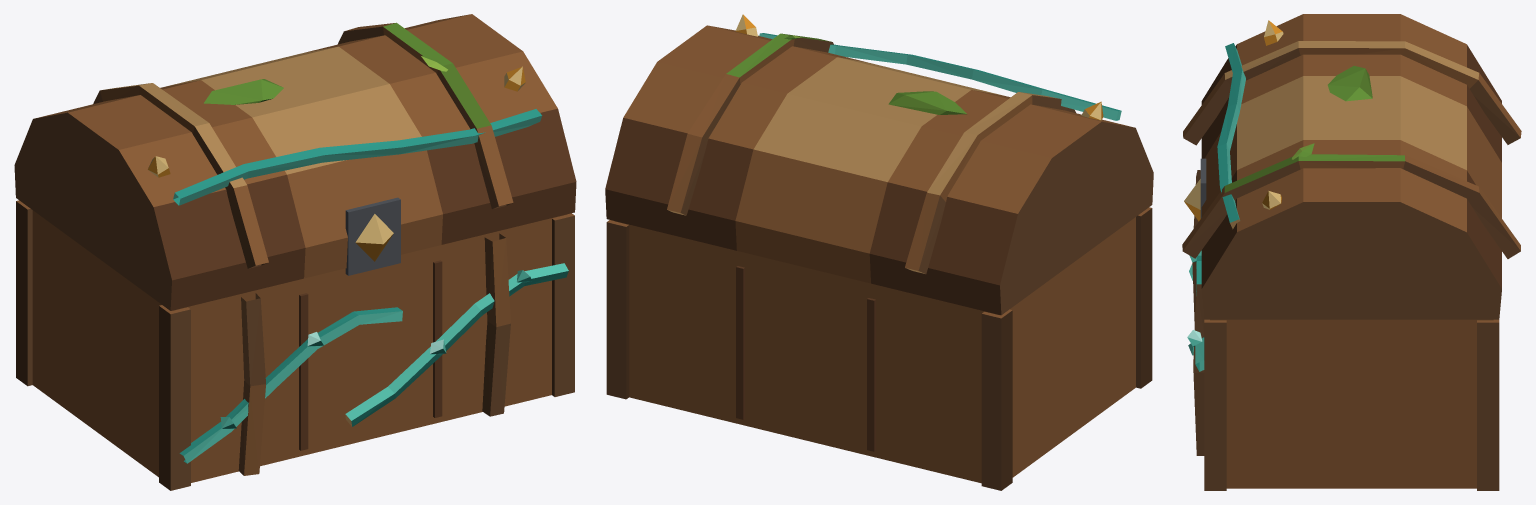
The model's file is burrow_chest_boss.glb.
The picture shows the model from 3 angles, left to right: view 1: azimuth 30°, elevation 25°; view 2: azimuth 150°, elevation 25°; view 3: azimuth 270°, elevation 25°; orthographic projection. The views are drawn at different scales.
Parts seen in each view (by area): view 1: lid, burrow_chest_boss; view 2: lid, burrow_chest_boss; view 3: lid, burrow_chest_boss.
Part boxes in pixels (x1,y1,x2,y2): lid: (14,14,576,310); burrow_chest_boss: (16,200,574,490); lid: (605,14,1153,315); burrow_chest_boss: (606,207,1152,490); lid: (1182,14,1521,319); burrow_chest_boss: (1187,170,1499,490).
Size of the model in its own units: 1.6 by 1.2 by 1.22.
